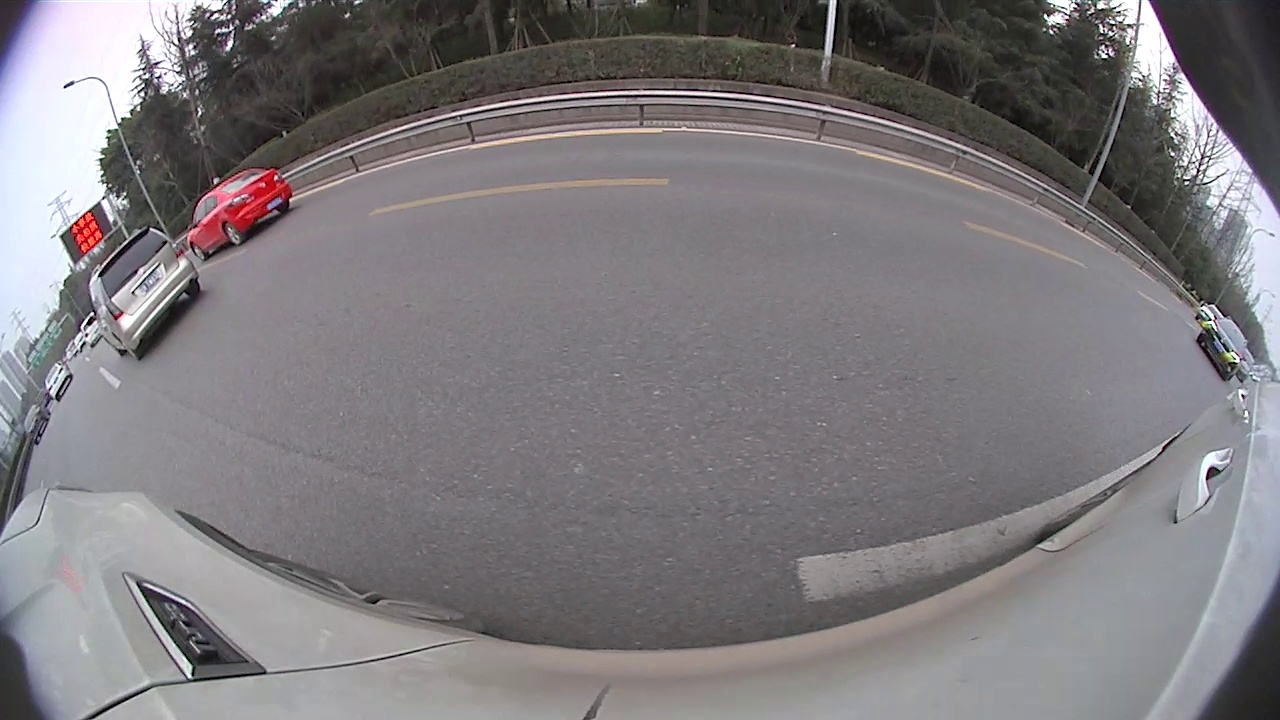car: (86, 225, 203, 362), (186, 166, 294, 261), (1195, 316, 1249, 383), (43, 359, 74, 403), (22, 402, 51, 446), (79, 310, 109, 350), (1194, 301, 1226, 327)
front: (192, 243, 206, 261)
rear: (224, 223, 243, 245)
